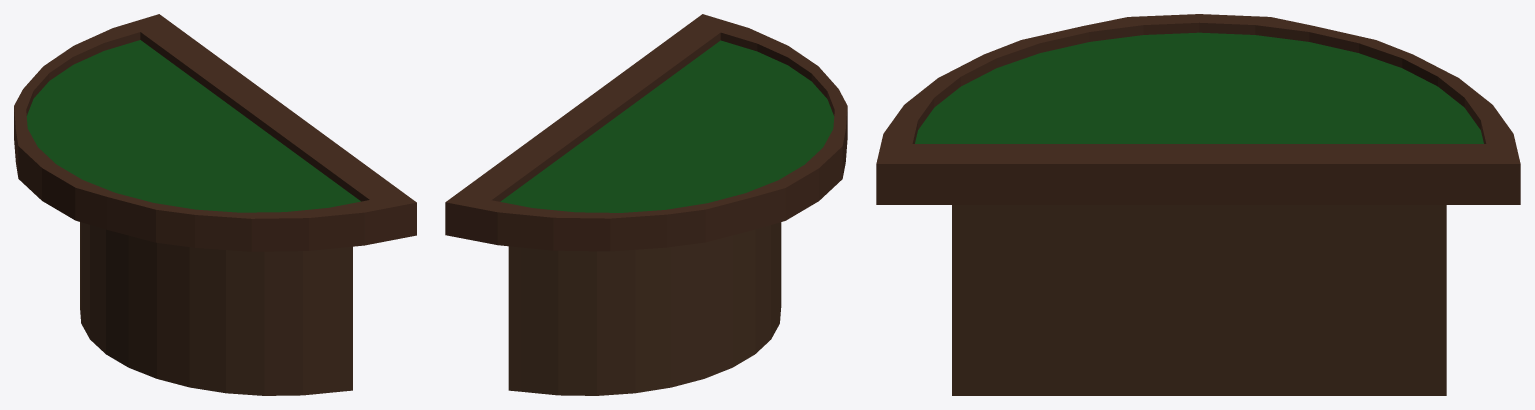
The picture shows the model from 3 angles, left to right: view 1: azimuth 30°, elevation 25°; view 2: azimuth 150°, elevation 25°; view 3: azimuth 270°, elevation 25°; orthographic projection. The views are drawn at different scales.
Parts seen in each view (by area): view 1: Circle, Circle.001; view 2: Circle, Circle.001; view 3: Circle, Circle.001.
Boxes of the visible parts, <box> form: Circle: <box>14,14,416,251</box>; Circle.001: <box>80,222,352,395</box>; Circle: <box>445,14,847,251</box>; Circle.001: <box>508,222,781,395</box>; Circle: <box>876,14,1520,204</box>; Circle.001: <box>952,205,1446,395</box>.
Bounding box in the file's own units: 255 × 200 × 462.
